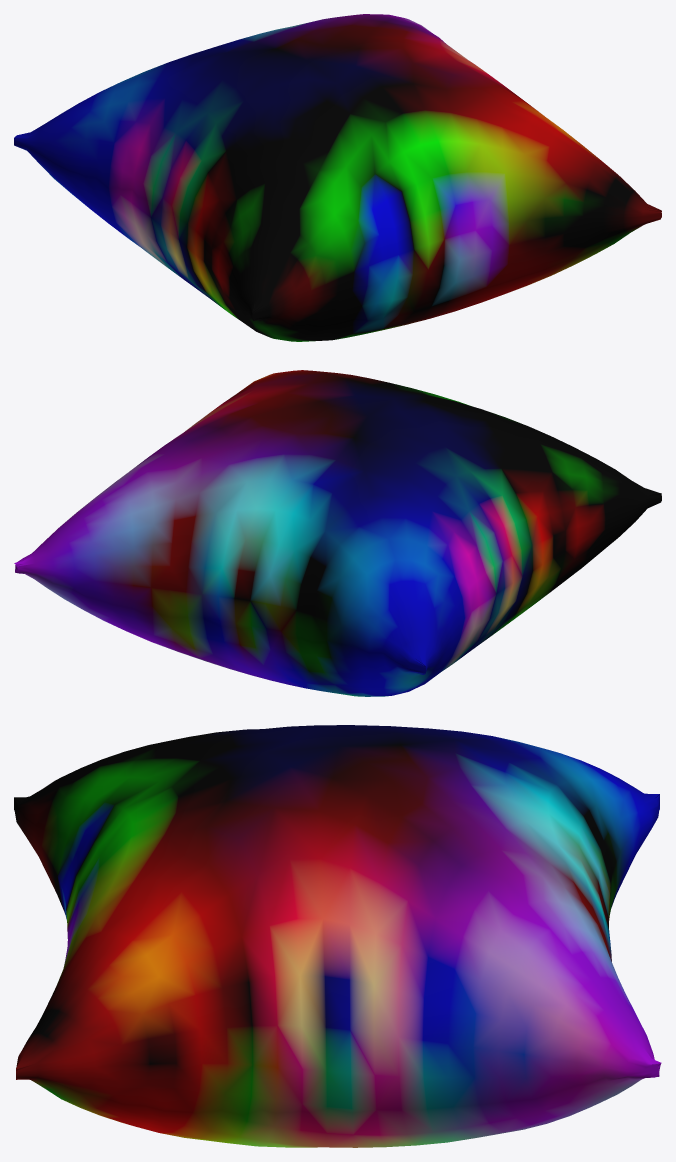
Rendered from type_c.gltf.
The picture shows the model from 3 angles, top to bottom: view 1: azimuth 30°, elevation 25°; view 2: azimuth 150°, elevation 25°; view 3: azimuth 270°, elevation 25°; orthographic projection. The views are drawn at different scales.
Parts seen in each view (by area): view 1: Remesh; view 2: Remesh; view 3: Remesh.
Part boxes in pixels (x1=…): Remesh: x1=14, y1=14, x2=661, y2=341; Remesh: x1=14, y1=370, x2=661, y2=696; Remesh: x1=14, y1=725, x2=661, y2=1147.
Bounding box in the file's own units: 190 × 111 × 190.
